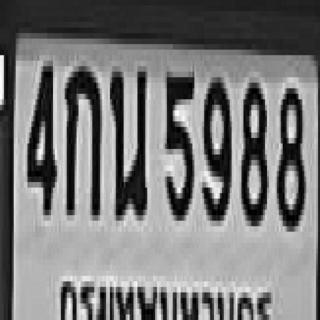A01: (63, 61, 98, 215)
A25: (108, 61, 145, 215)
N04: (26, 55, 53, 210)
N05: (163, 66, 192, 215)
N08: (275, 83, 302, 226), (240, 77, 265, 221)
N09: (200, 72, 230, 215)
